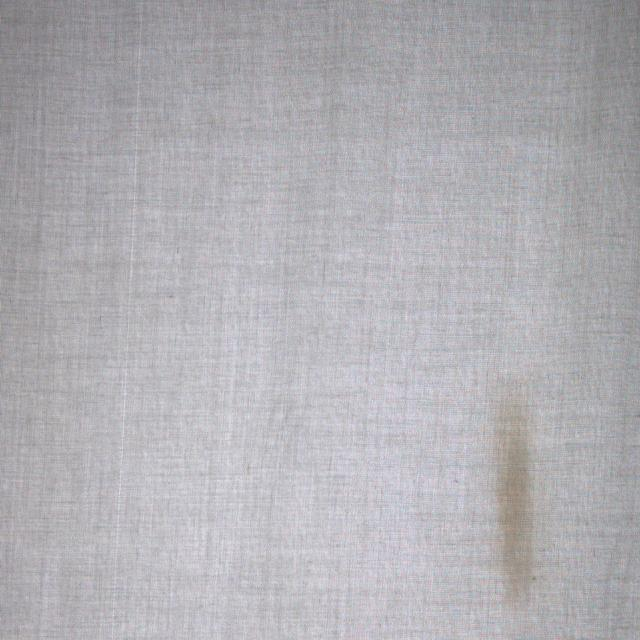dirty: (495, 390, 533, 596)
